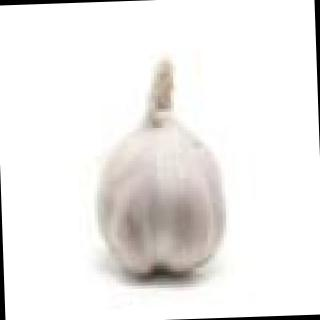Bawang Putih: (75, 45, 275, 295)
